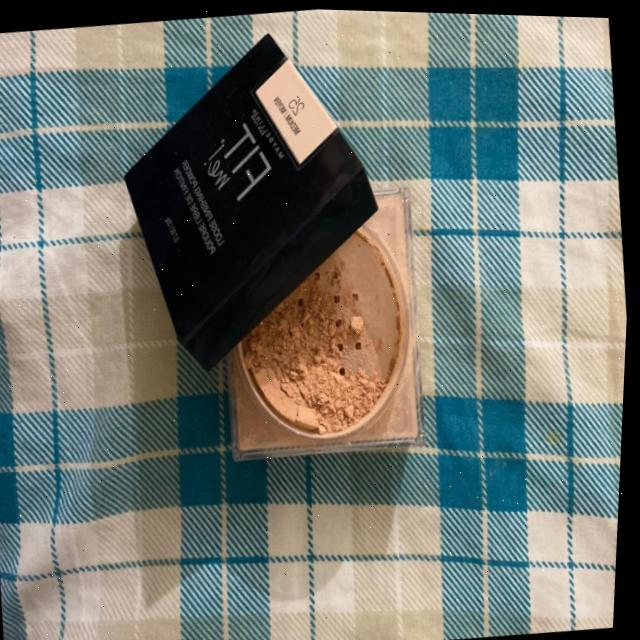powder: (201, 191, 448, 483)
